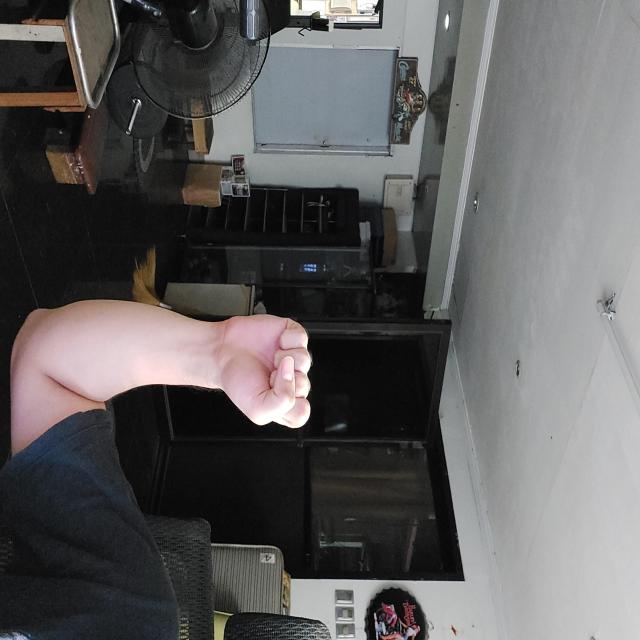S: (314, 329, 429, 422)
